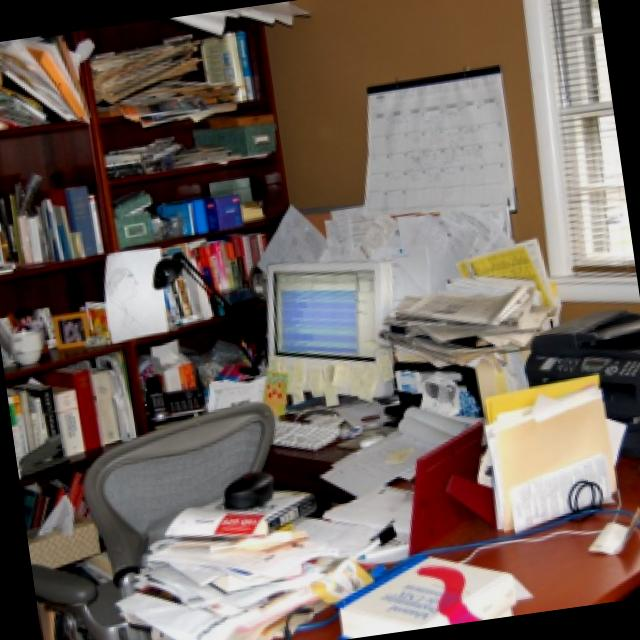mess: (24, 390, 640, 640), (0, 8, 297, 467), (280, 166, 640, 430)
